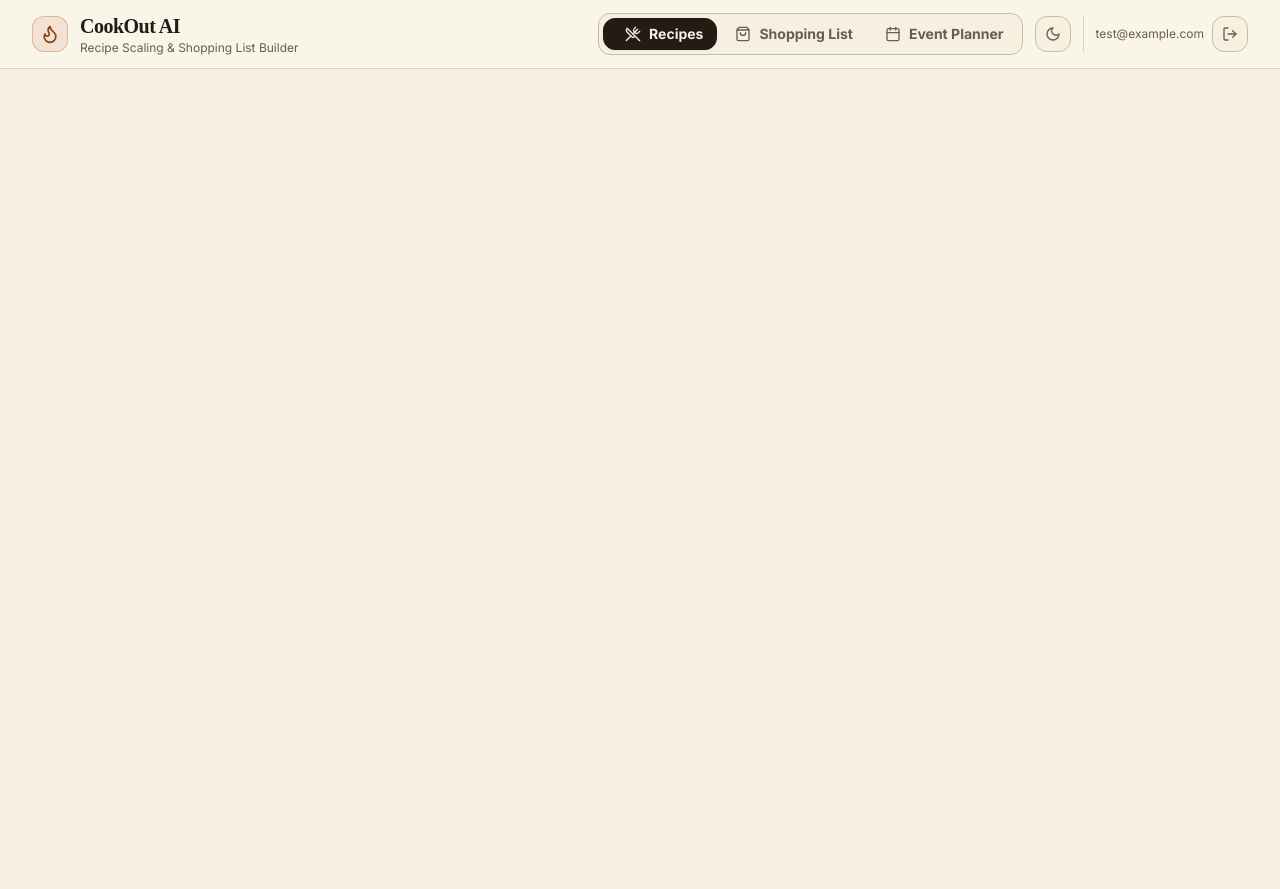
Scenario: Web UI (TanStack Query & App Integration Tests) › displays 404/400 error message from POST /api/shopping-list when request fails
The width and height of the screenshot is (1280, 889).
Click the button "Shopping List": (794, 34) [722,18,867,50]
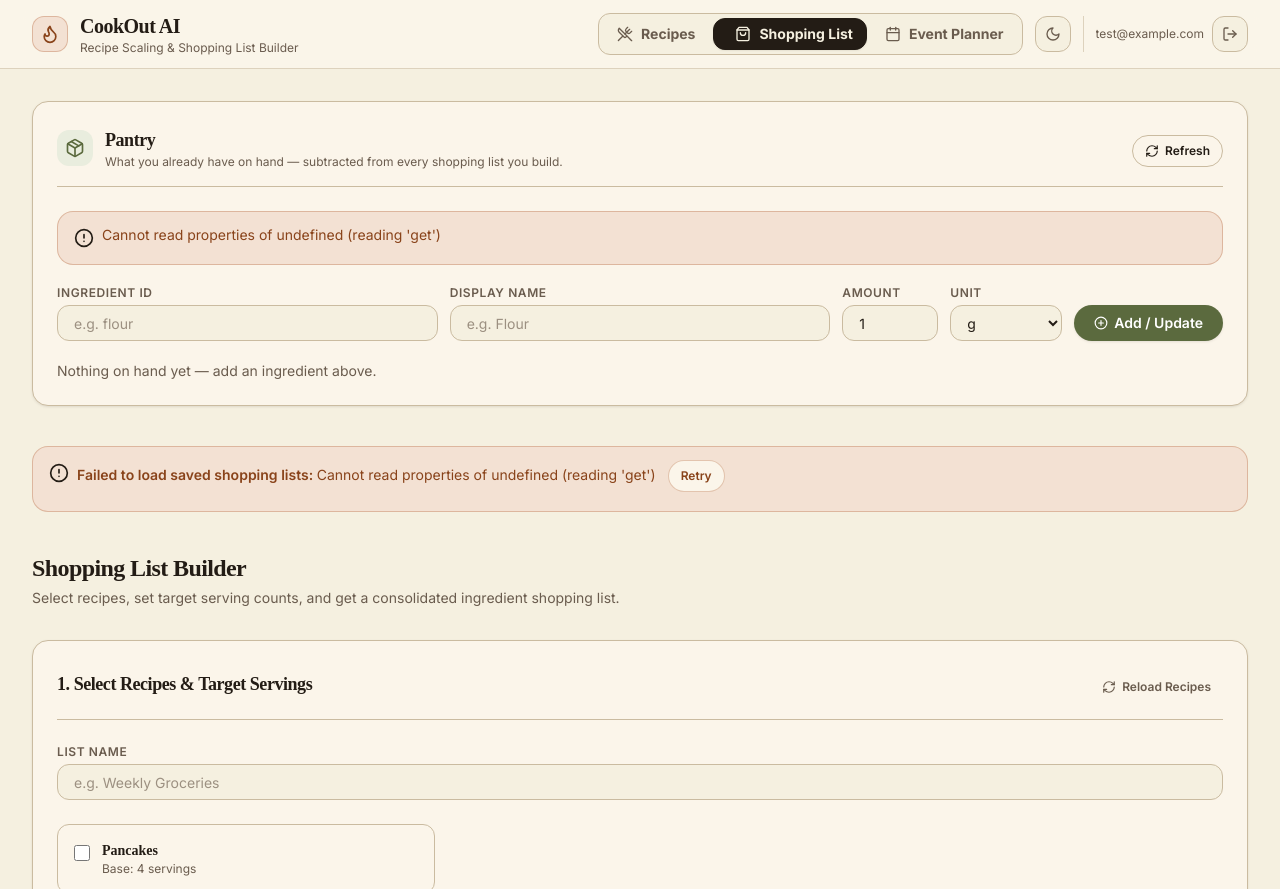
Check: the text "Pancakes" is shown, box [102,843,158,858]
Click the checkbox named "select recipe pancakes": (82, 853) [74,845,90,861]
(page scrolled)
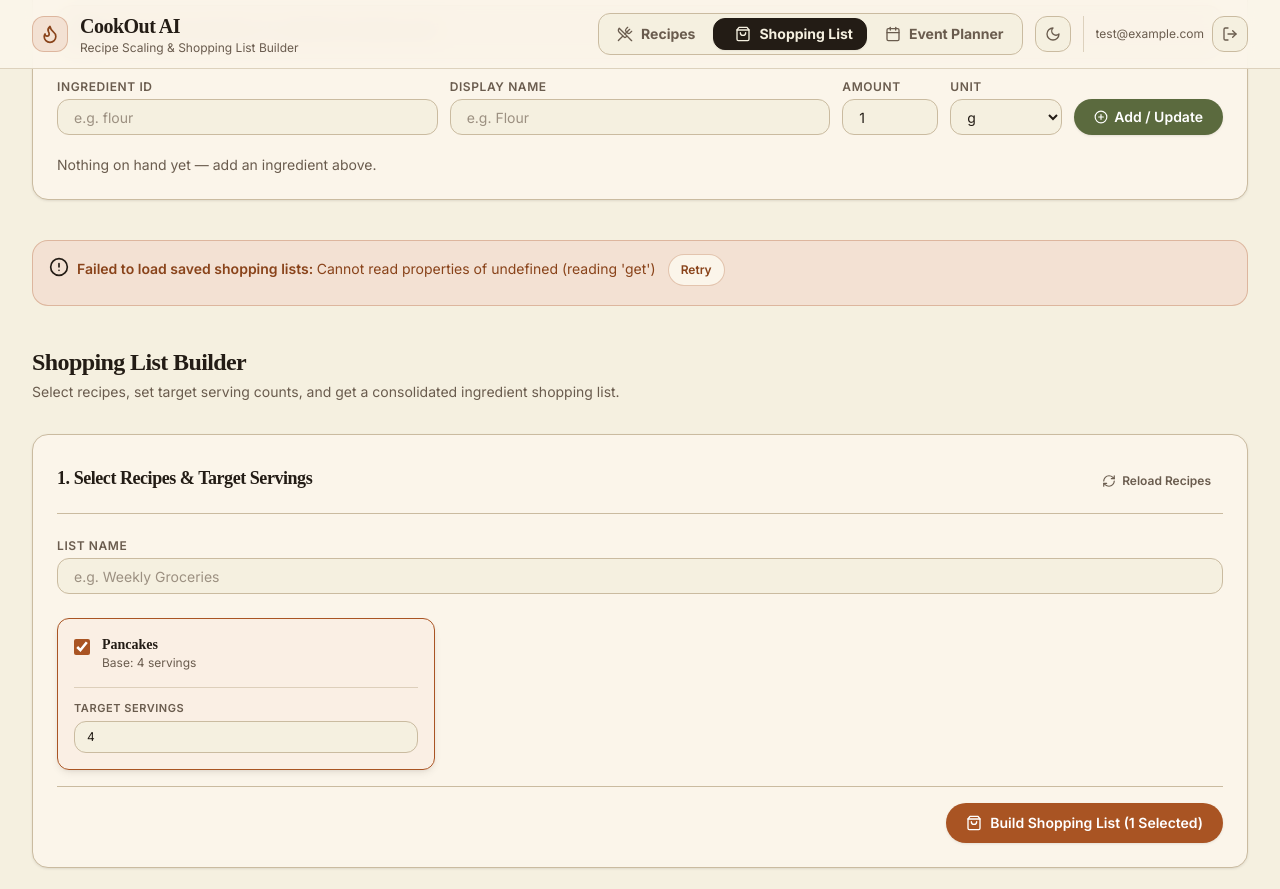
Click the button "Build Shopping List (1 Selected)": (1085, 822) [946,802,1223,842]
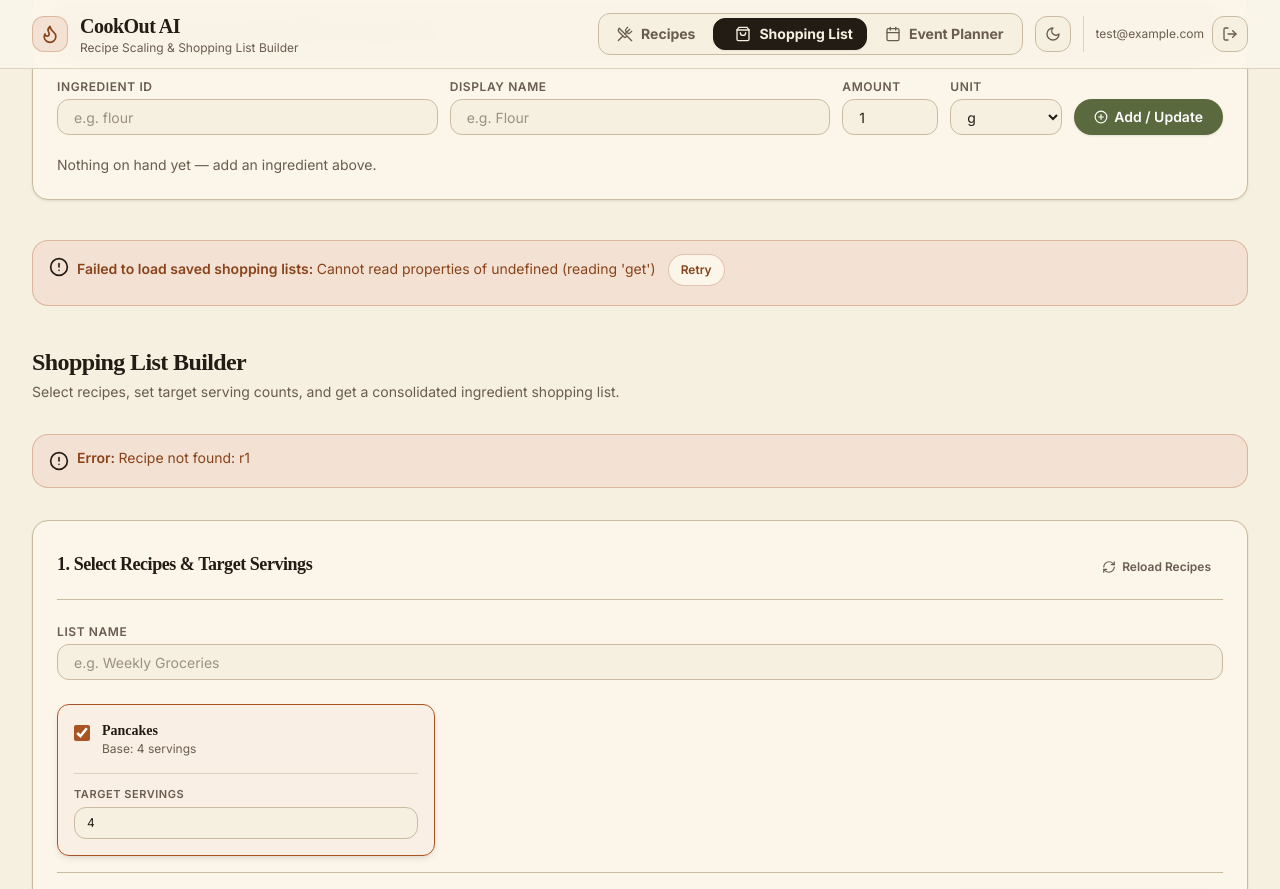
Check: the text "Recipe not found: r1" is shown, box [118,449,250,466]
